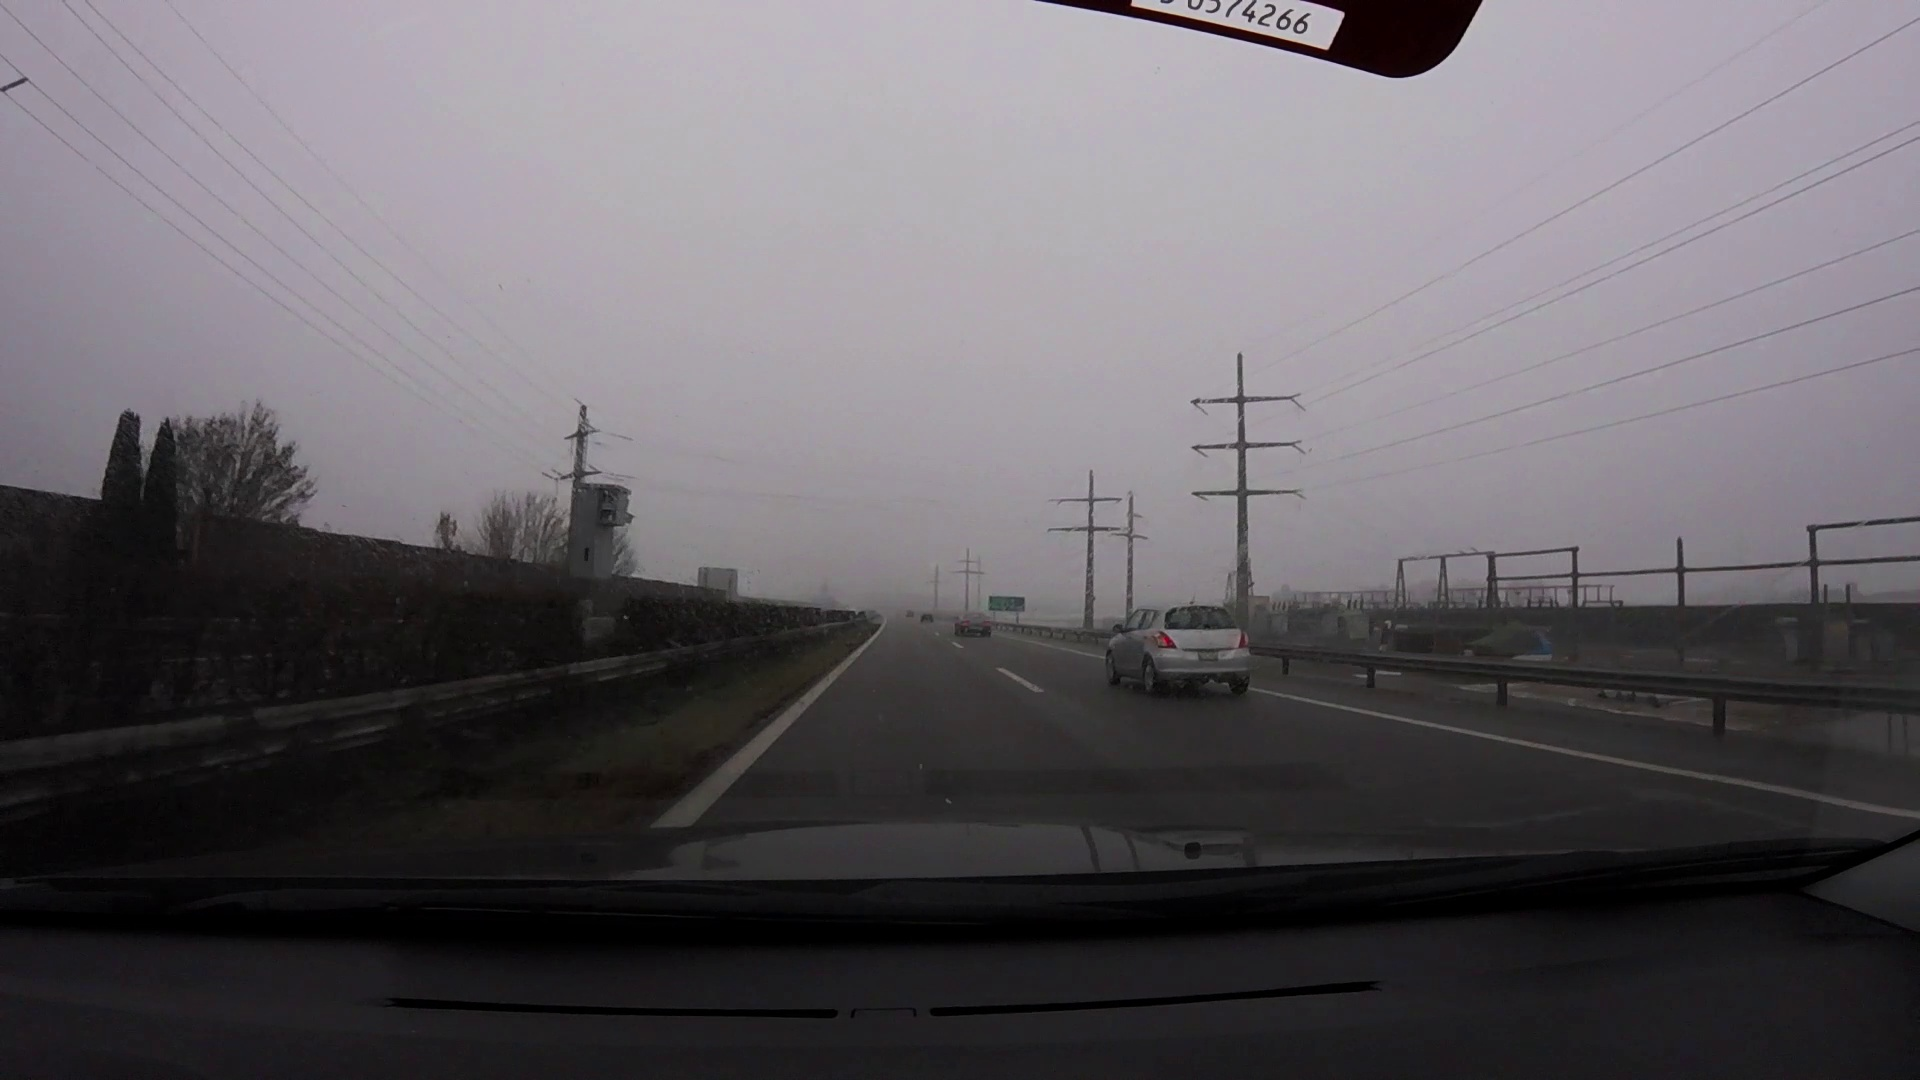radar: (570, 480, 637, 615)
